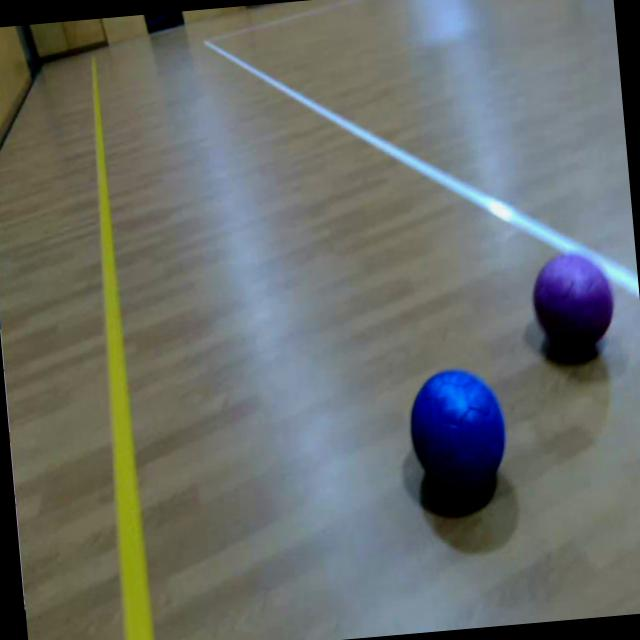blue_ball: (406, 366, 510, 494)
purple_ball: (528, 248, 618, 352)
